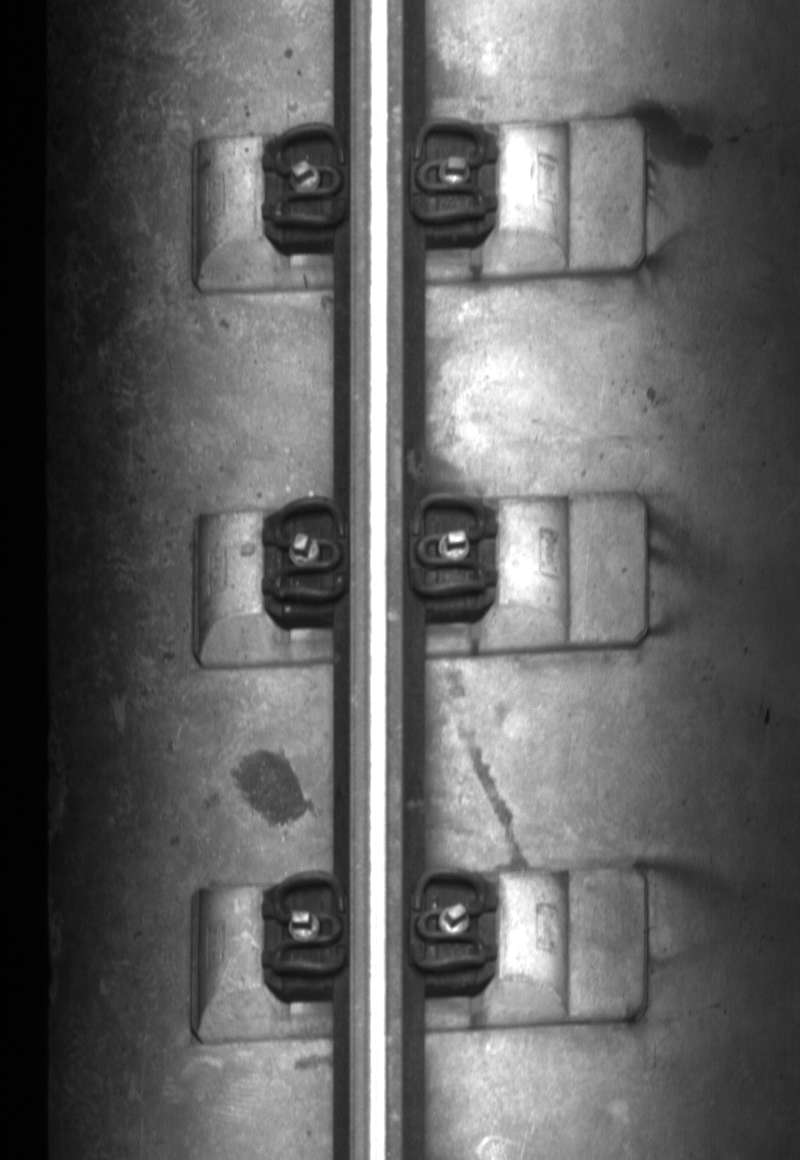l_faster: (266, 117, 350, 234), (265, 865, 349, 980), (266, 494, 350, 606)
r_faster: (406, 488, 492, 605), (407, 862, 493, 977), (408, 113, 492, 230)
